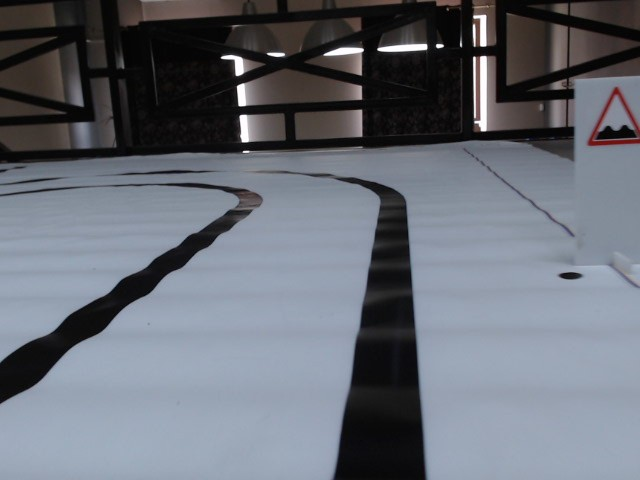Nerov: (585, 86, 640, 148)
